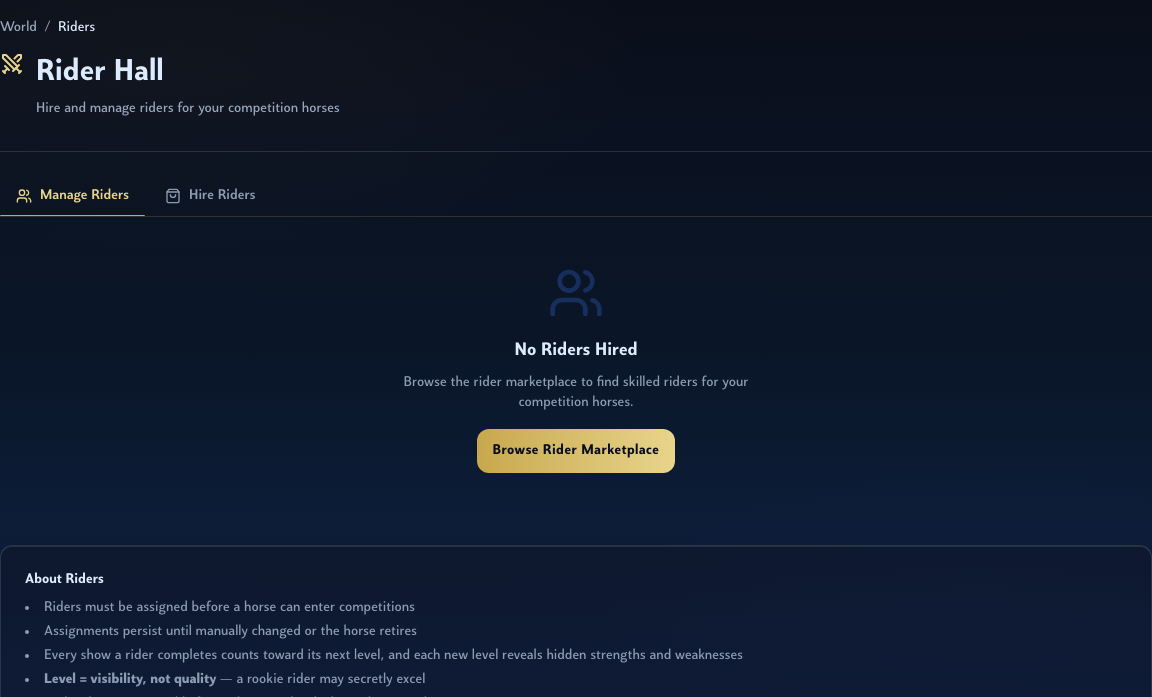
Test: RidersPage — manage/hire tabs + cross-tab jump (Equoria-o5hub.30) › the dashboard "Browse Rider Marketplace" button jumps to the Hire tab (onBrowseMarketplace)
# The cross-tab handler is wired to this button.
Click the button "Browse Rider Marketplace". click: (576, 451)
box: x1=477 y1=429 x2=675 y2=473
(page scrolled)
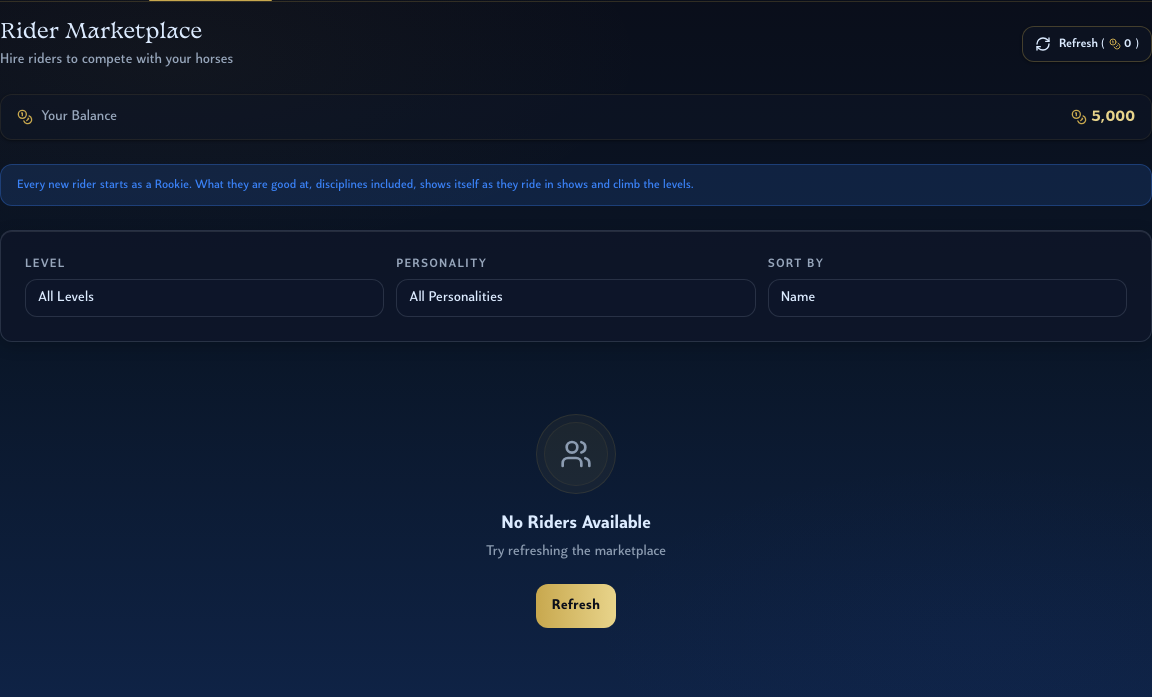
Expected: the element with test id "rider-list" is shown
Expected: the element with test id "no-riders-state" is gone
